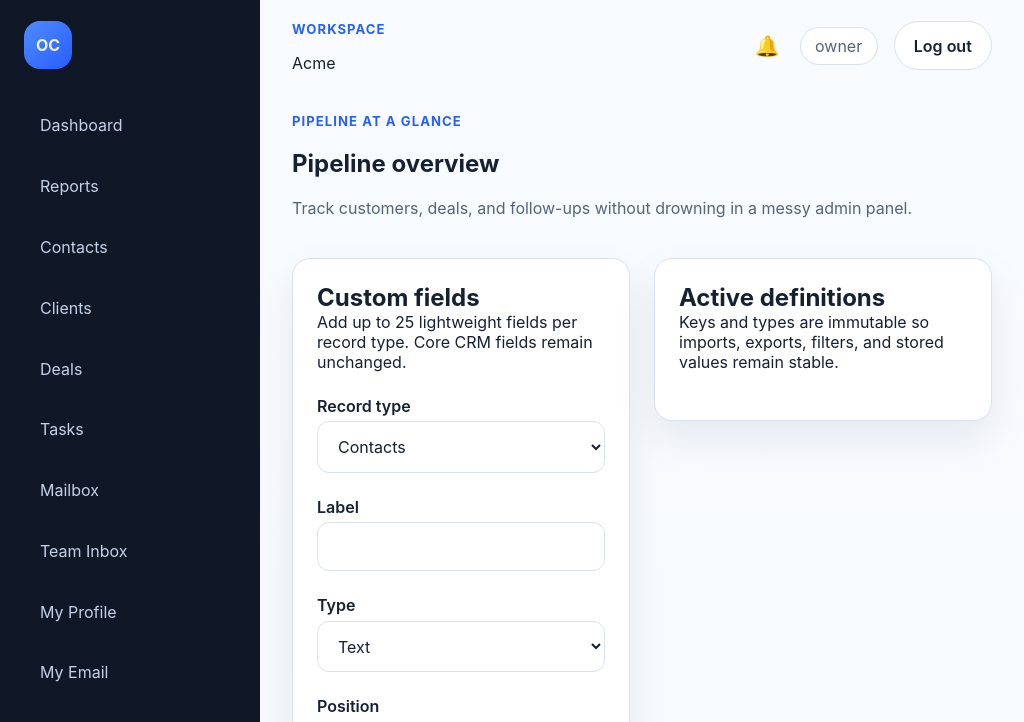
Test case: settings custom fields route › uses server capacity and ignores an obsolete record-type response even when abort is ignored
This screenshot has width=1024, height=722.
Expected: the heading "Custom fields" is shown, [317,283,480,312]
Select "Organization clients" in the dropdown labelled "Record type" at (461, 447), box [317,421,605,473]
(page scrolled)
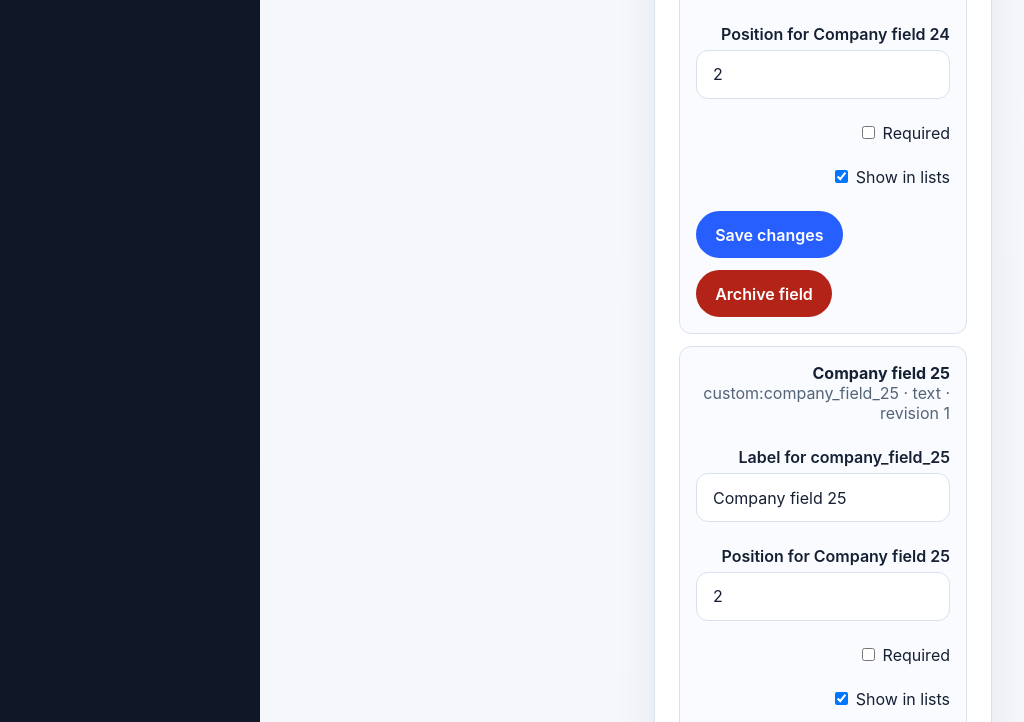
Expected: the text "Company field 25" is shown, [812,363,950,383]
